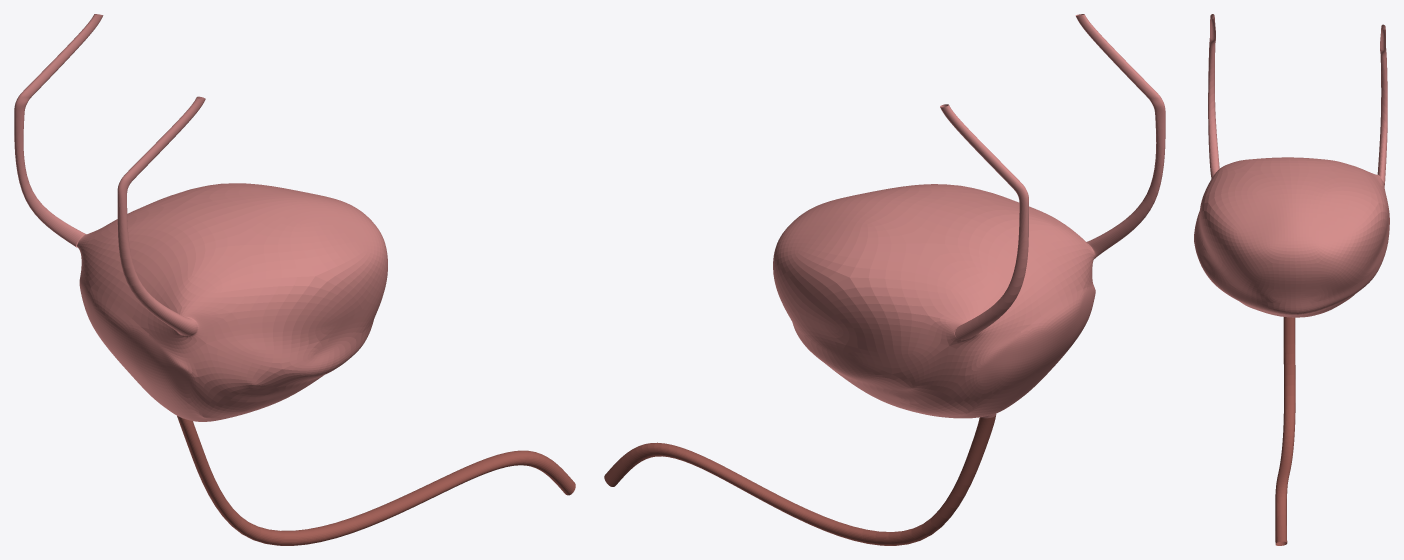
File: Bladder.fbx
3 views of the same model, side by side, from view 1: azimuth 30°, elevation 25°; view 2: azimuth 150°, elevation 25°; view 3: azimuth 270°, elevation 25° (orthographic). The views are drawn at different scales.
Parts seen in each view (by area): view 1: Основа; view 2: Основа; view 3: Основа.
Boxes of the visible parts, bbox=[...] form: Основа: bbox=[14, 14, 575, 545]; Основа: bbox=[604, 14, 1165, 545]; Основа: bbox=[1194, 14, 1389, 545].
Size of the model in its own units: 1297 by 1310 by 603.
